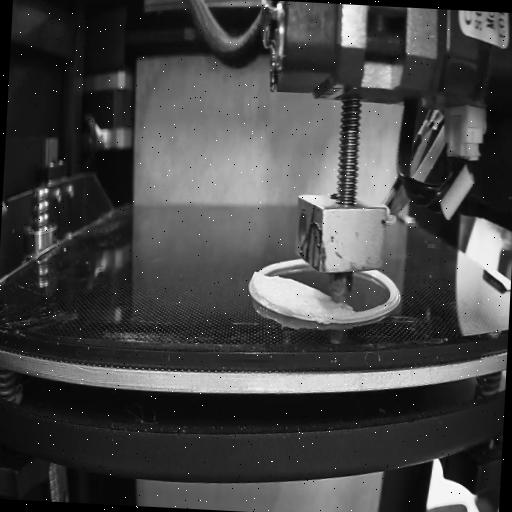over_extrusion: (246, 265, 264, 309)
